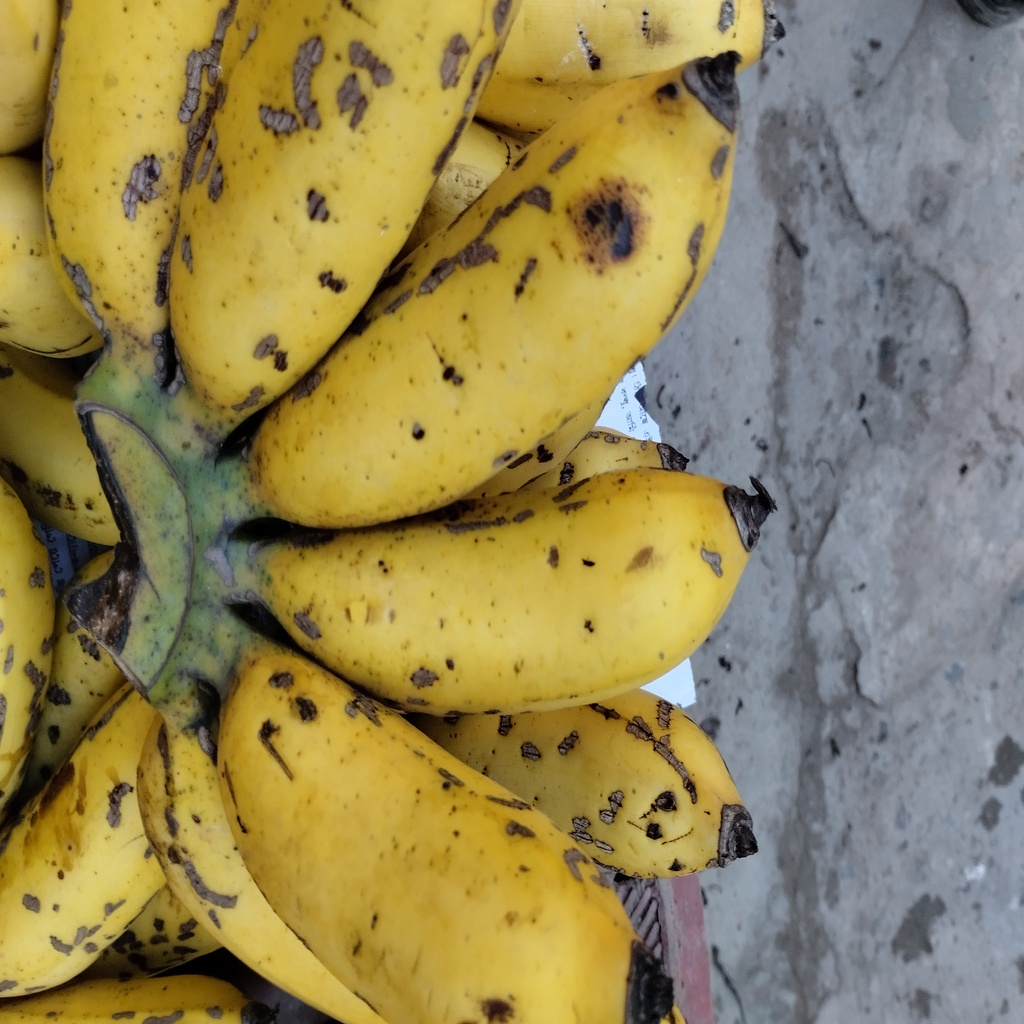unhealthy: (251, 63, 737, 523), (209, 659, 666, 1024), (264, 469, 776, 712)
